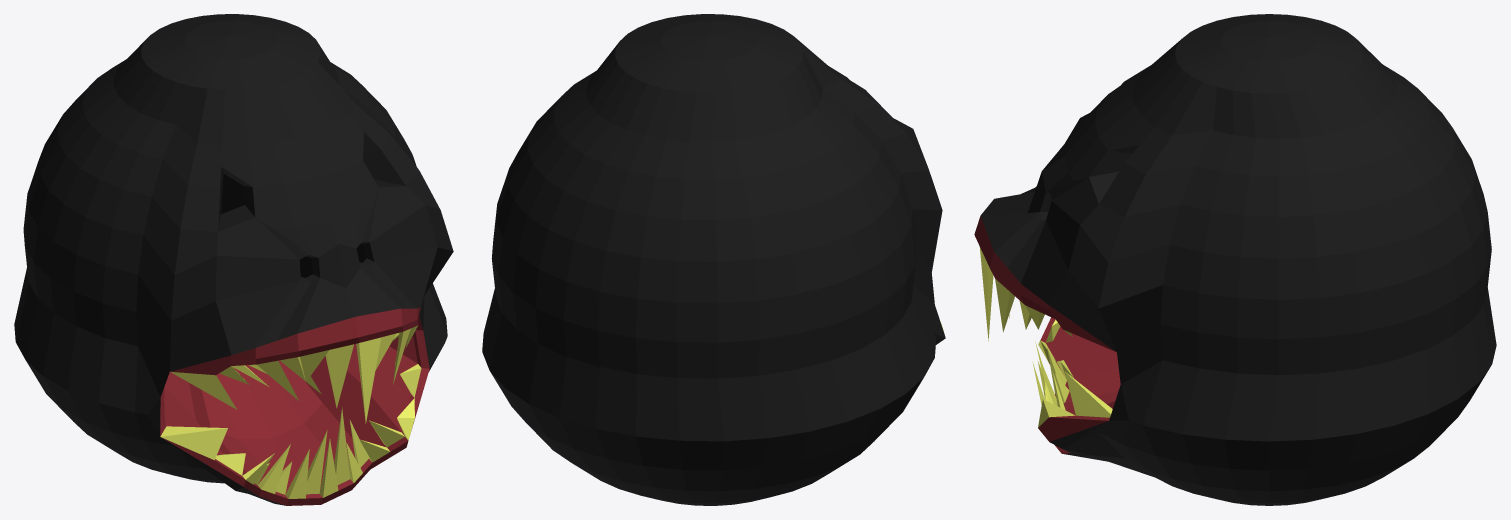
File: gorrilaHead.fbx
The picture shows the model from 3 angles, left to right: view 1: azimuth 30°, elevation 25°; view 2: azimuth 150°, elevation 25°; view 3: azimuth 270°, elevation 25°; orthographic projection. The views are drawn at different scales.
Parts seen in each view (by area): view 1: Sphere; view 2: Sphere; view 3: Sphere.
Part boxes in pixels (x1,y1,x2,y2): Sphere: [14, 14, 453, 505]; Sphere: [482, 14, 945, 505]; Sphere: [974, 14, 1496, 505].
Size of the model in its own units: 739 by 800 by 848.
